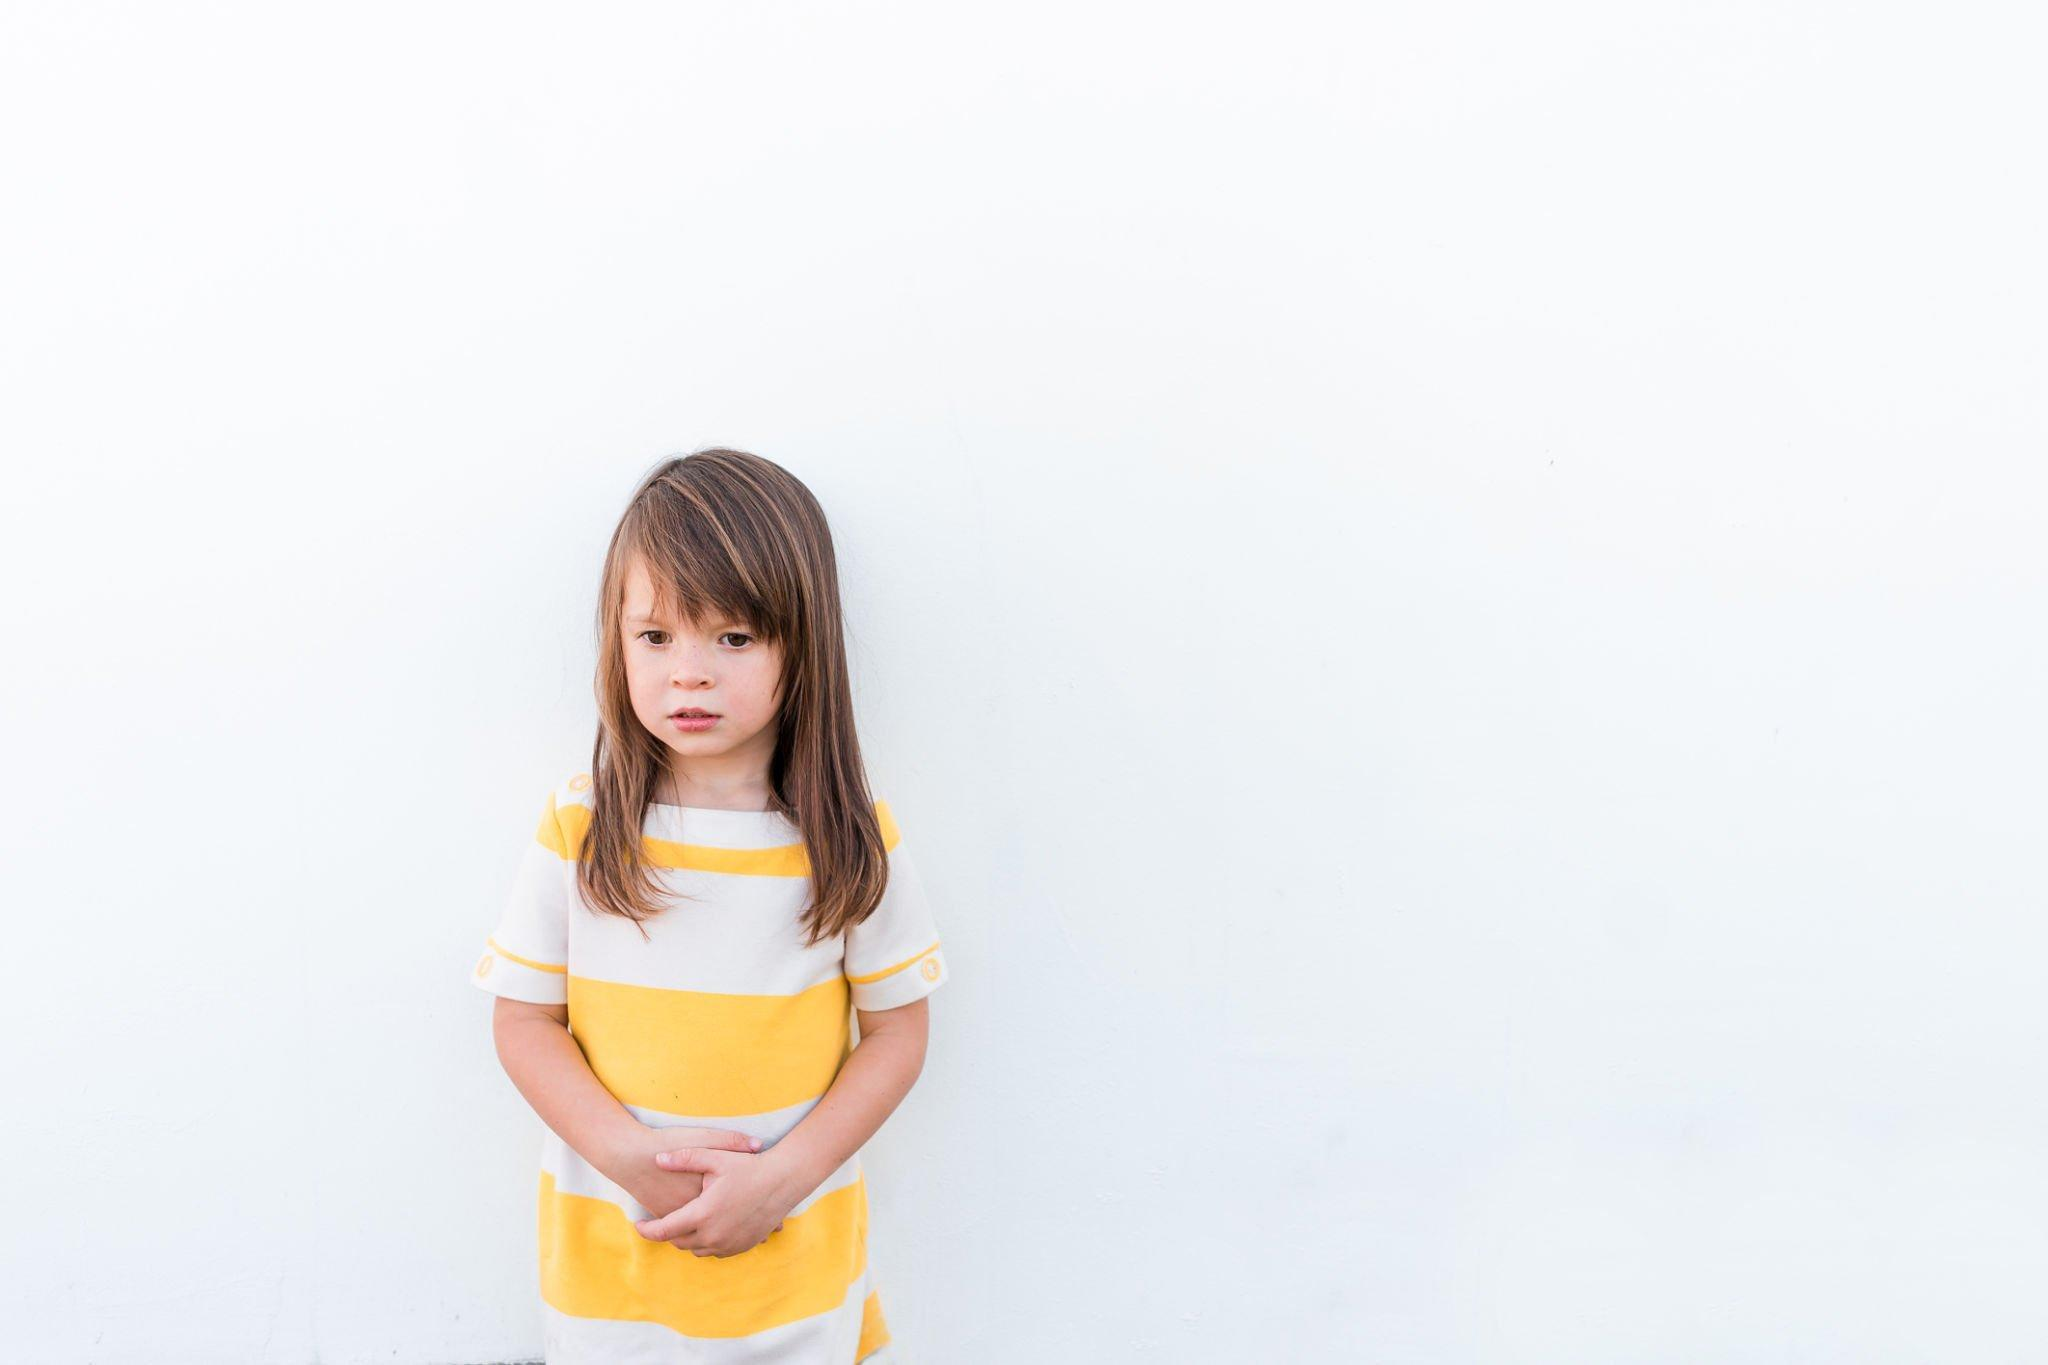Healthy: (586, 501, 850, 823)
